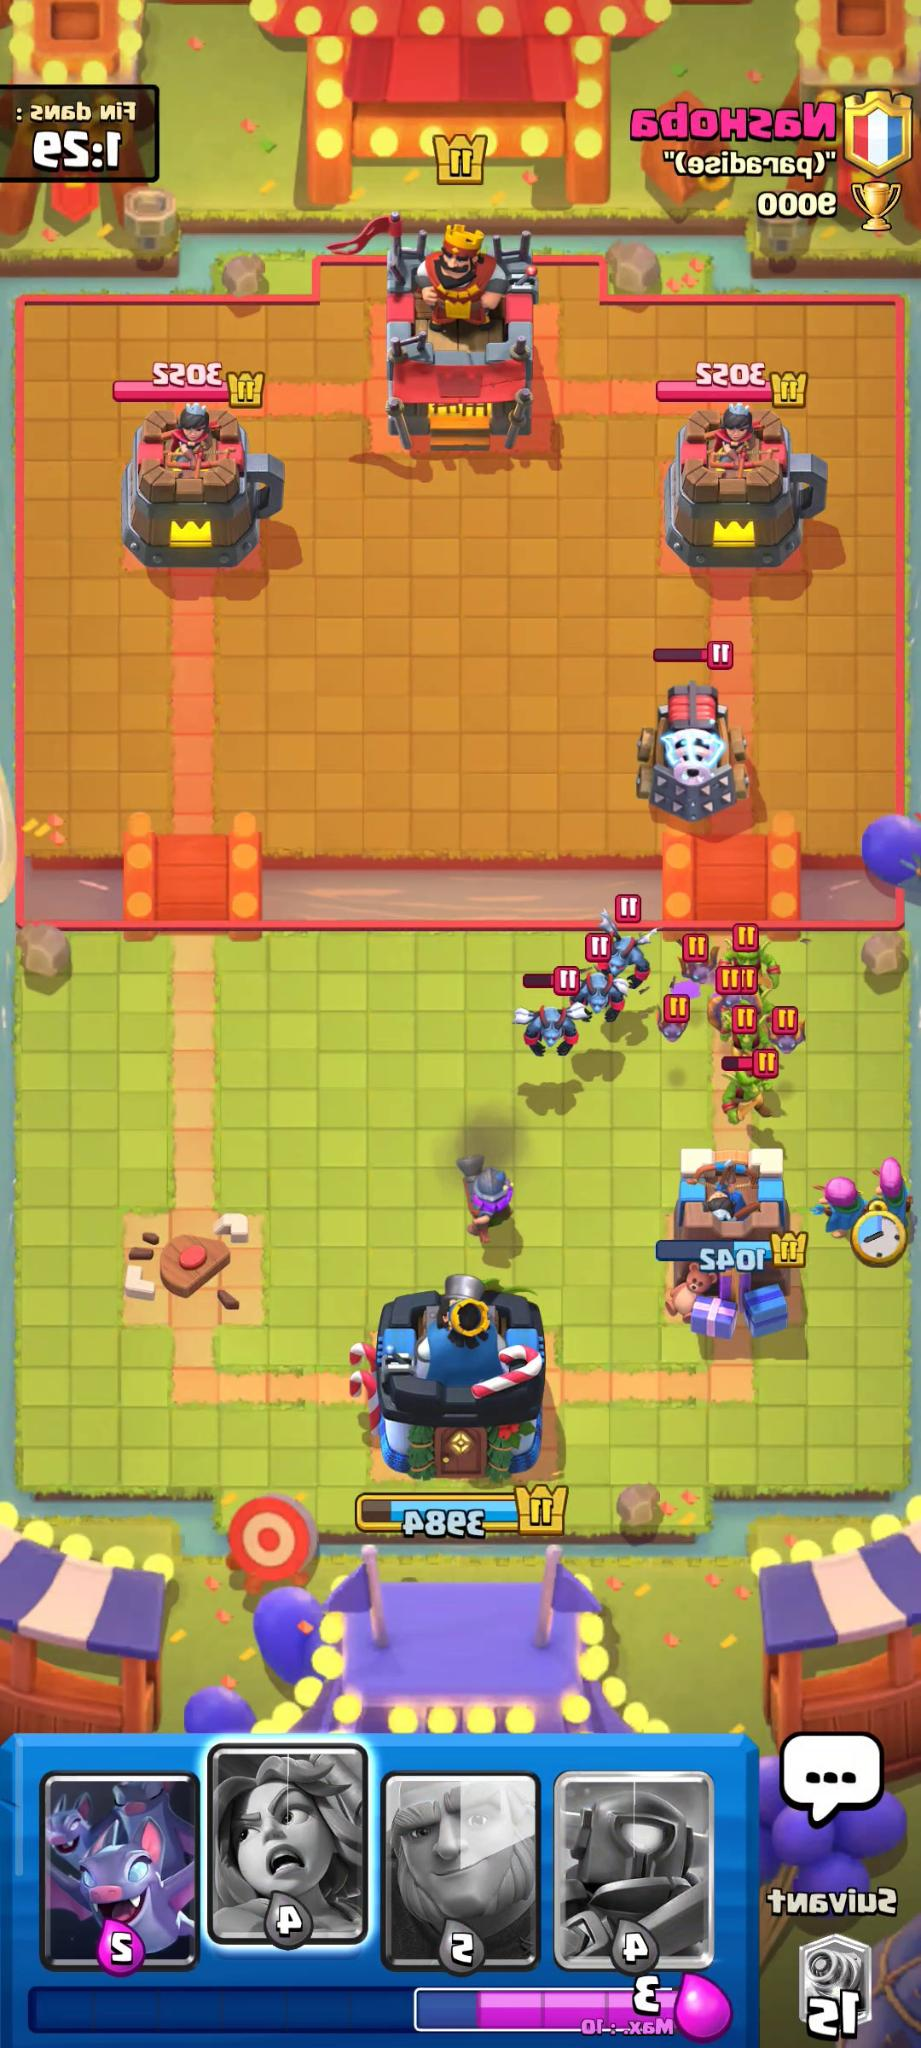archere: (869, 1156, 917, 1232), (819, 1176, 853, 1245)
bat: (762, 1004, 813, 1062), (719, 977, 755, 1028), (687, 946, 709, 1002), (652, 1011, 687, 1046)
gargouille: (579, 964, 628, 1028), (598, 931, 654, 981), (533, 1003, 560, 1057)
gobelin: (717, 1067, 769, 1123), (721, 940, 768, 986), (726, 1012, 760, 1062), (742, 986, 775, 1027)
mousquetaire: (461, 1160, 520, 1245)
zappy: (610, 683, 762, 802)
